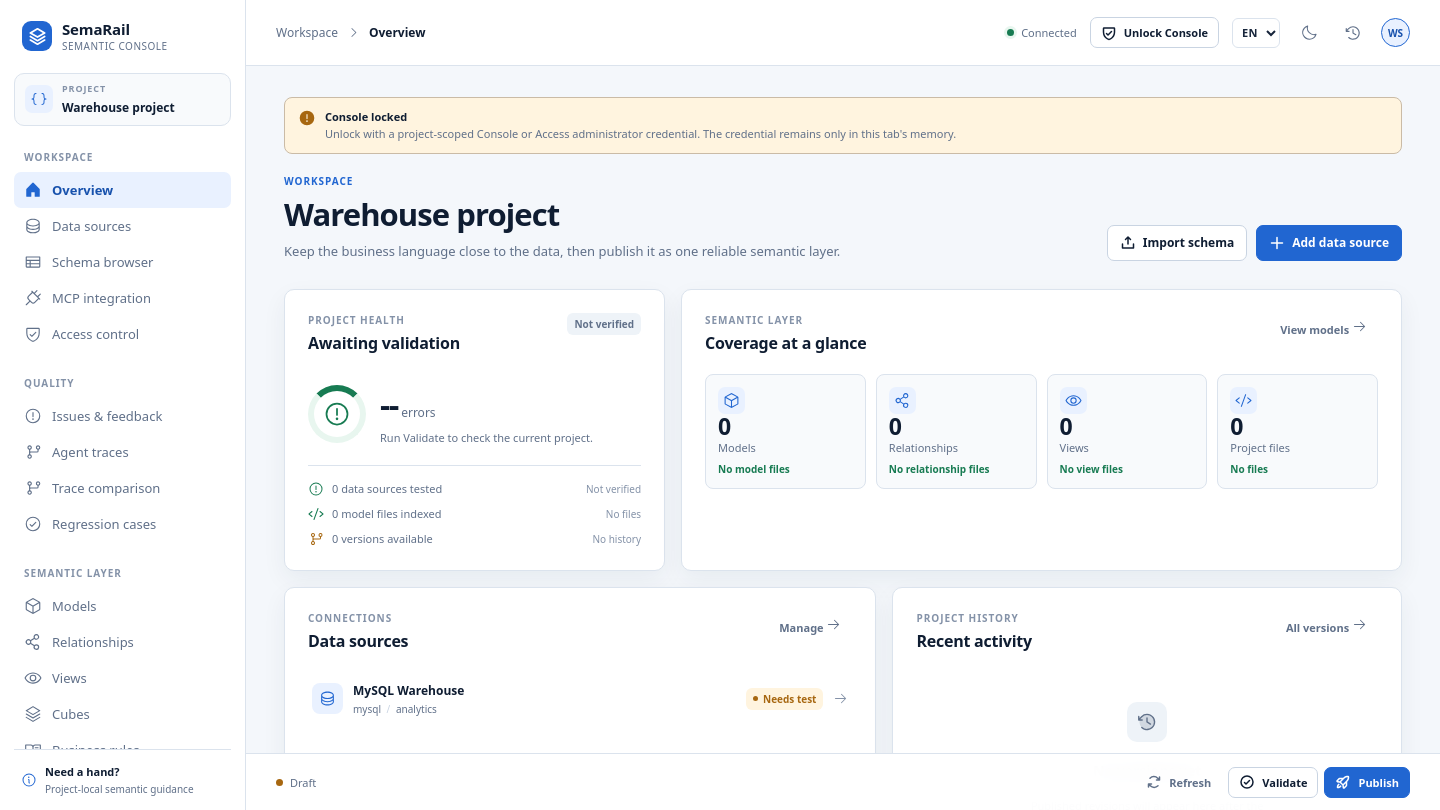
Scenario: Semantic Console interactions › offers MySQL and hides datasource types that are not configured
This screenshot has width=1440, height=810.
Expected: the text "Connected" is shown, left=1007, top=25, right=1077, bottom=40
Step 1. Click the button "Data sources" → click(122, 226), box left=14, top=208, right=231, bottom=244
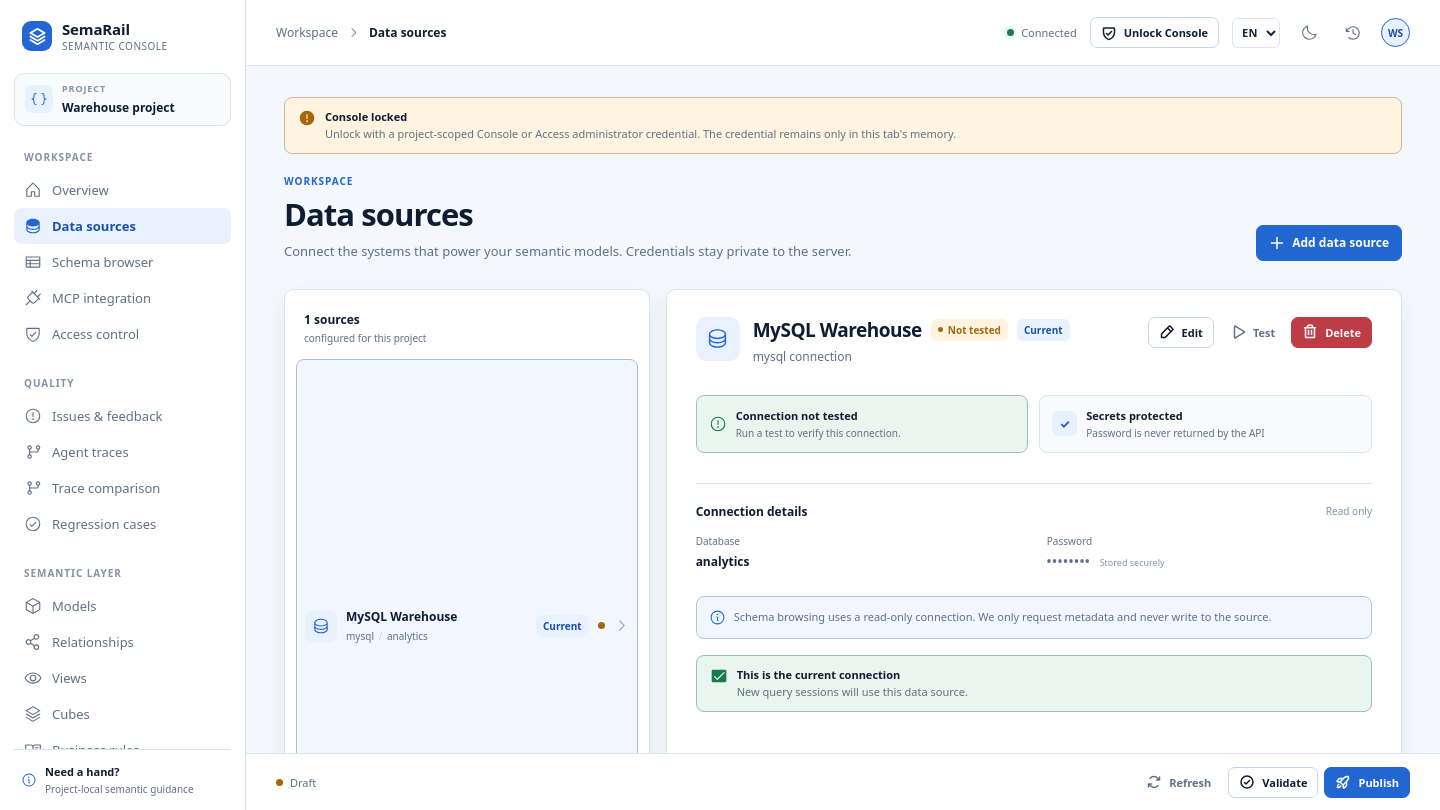
Expected: the heading "Data sources" is shown, left=284, top=193, right=473, bottom=235
Step 2. Click the button "Edit" → click(1181, 332), box left=1148, top=317, right=1214, bottom=348
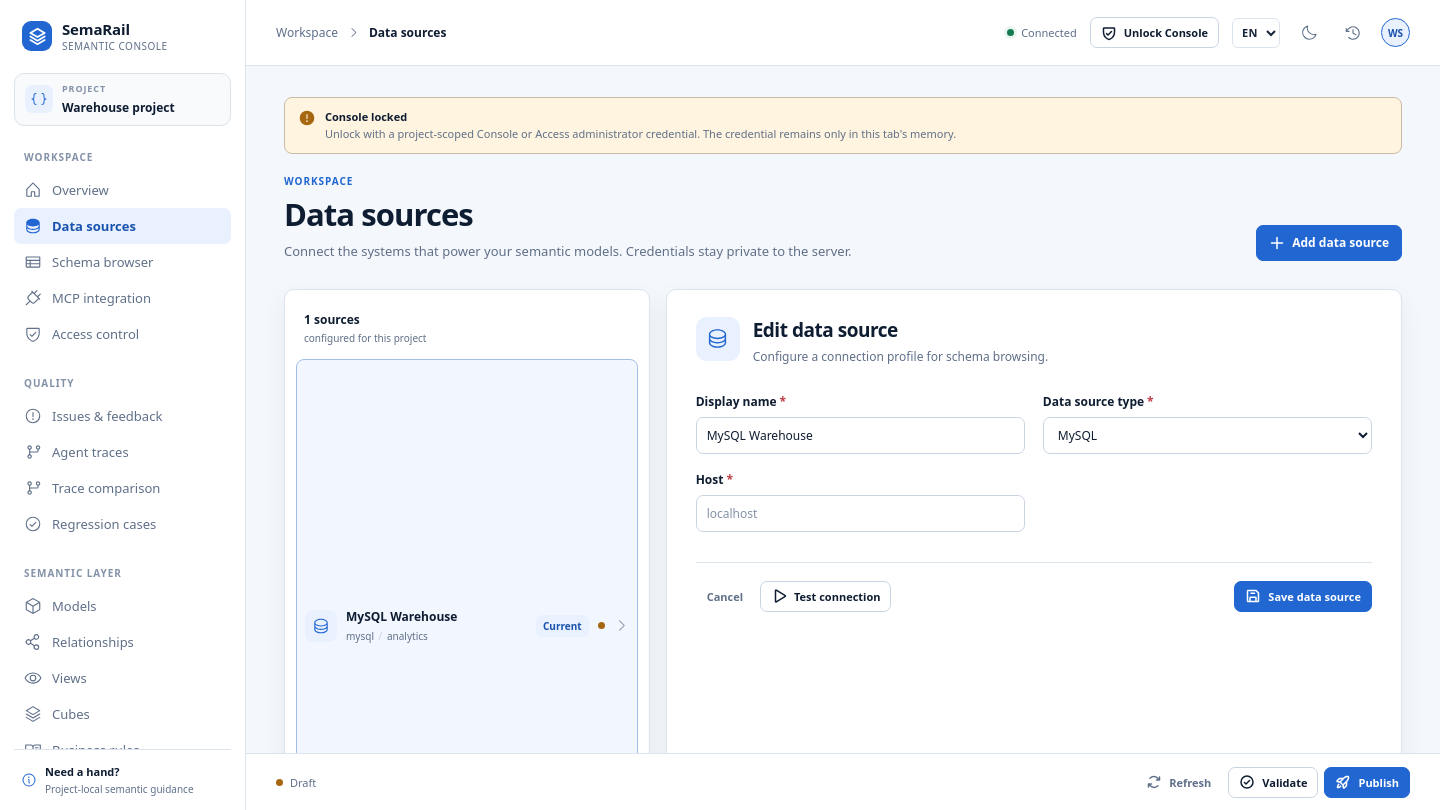
Expected: the dropdown labelled "Data source type*" does not show "Snowflake", left=1043, top=417, right=1372, bottom=454
Expected: the heading "Edit data source" is shown, left=753, top=317, right=898, bottom=343
